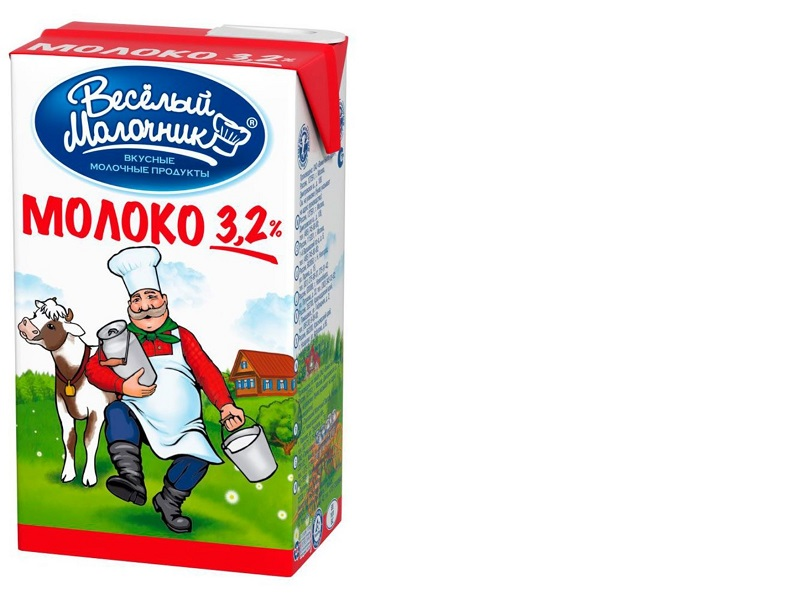milk: (1, 8, 385, 597)
